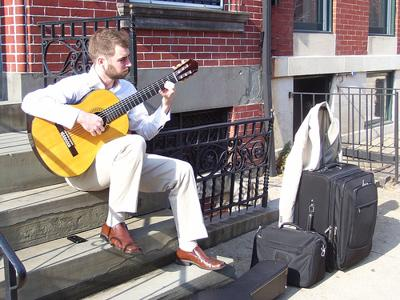person: (21, 30, 227, 270)
